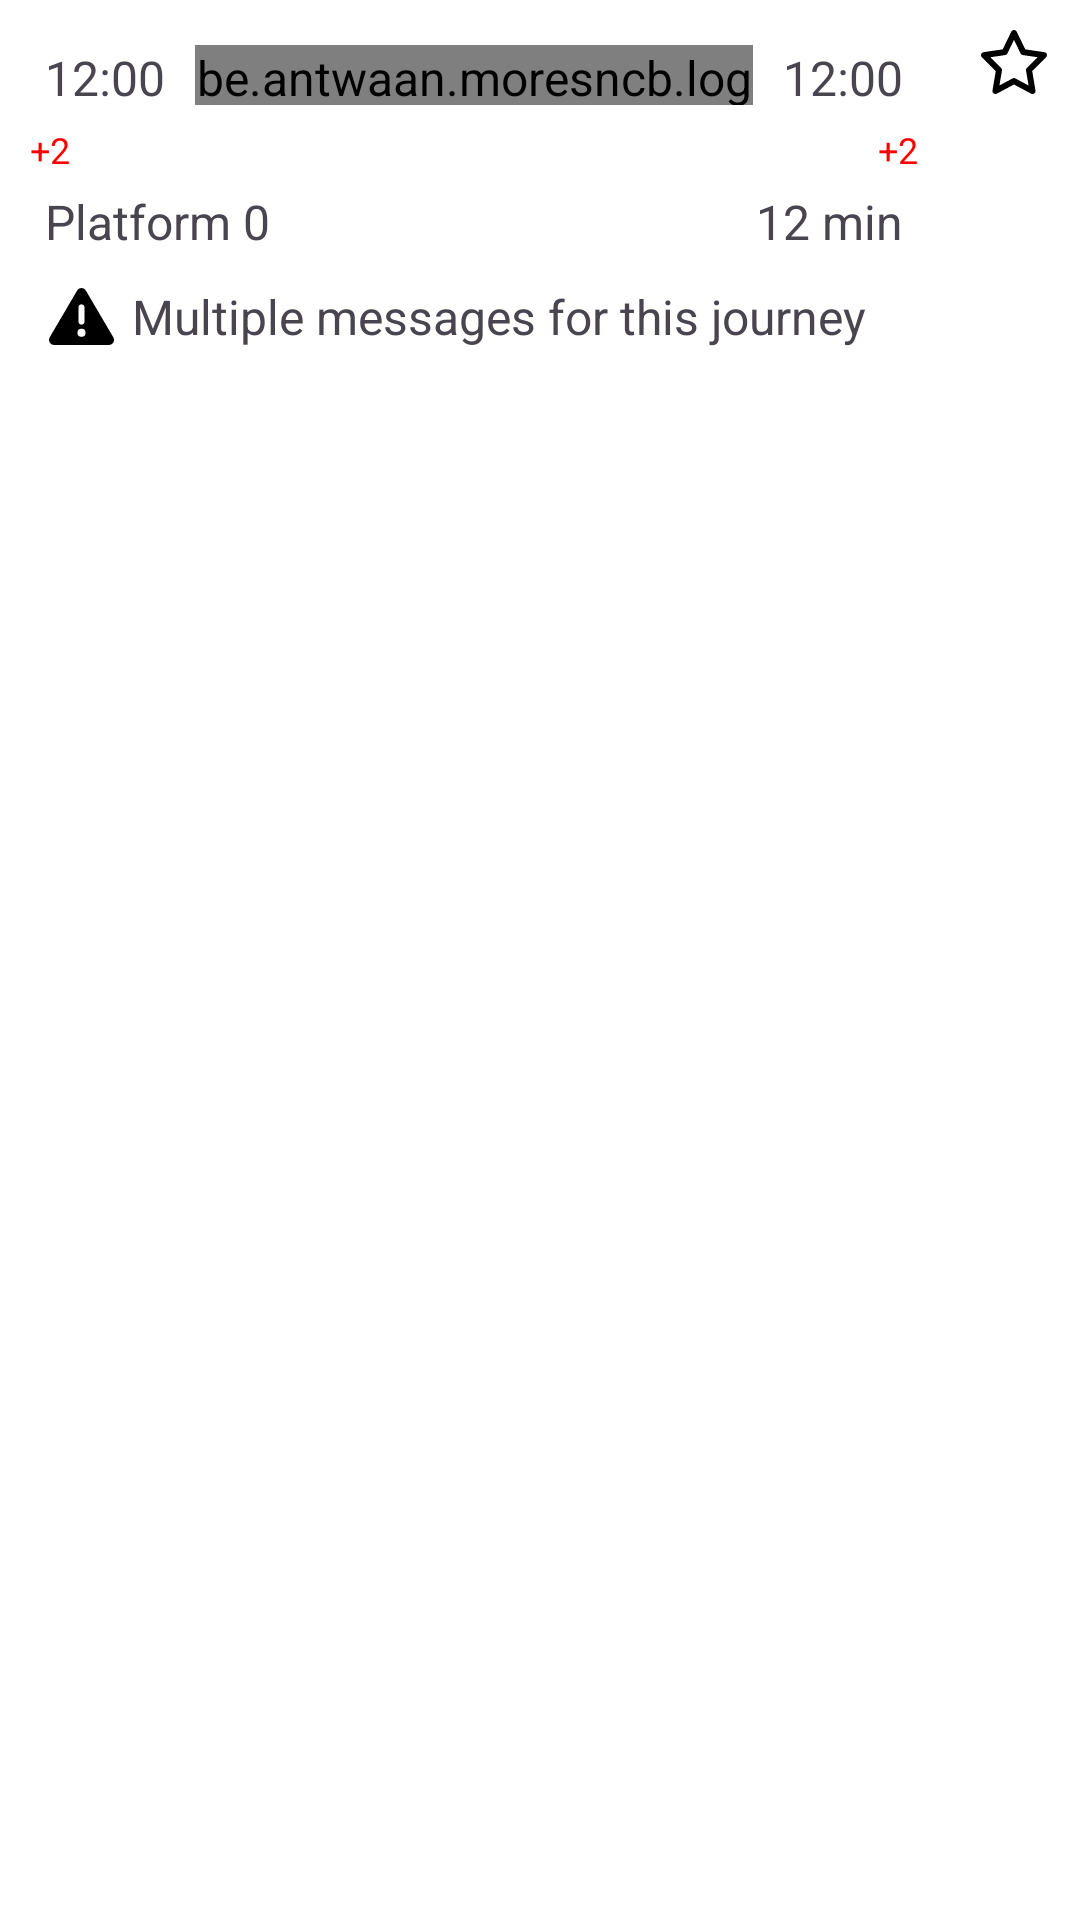

Where to tap for icons on this 1080 x 1920 app screen, as [x,y]:
star: [1014,62]
triangle exclamation: [81,316]
